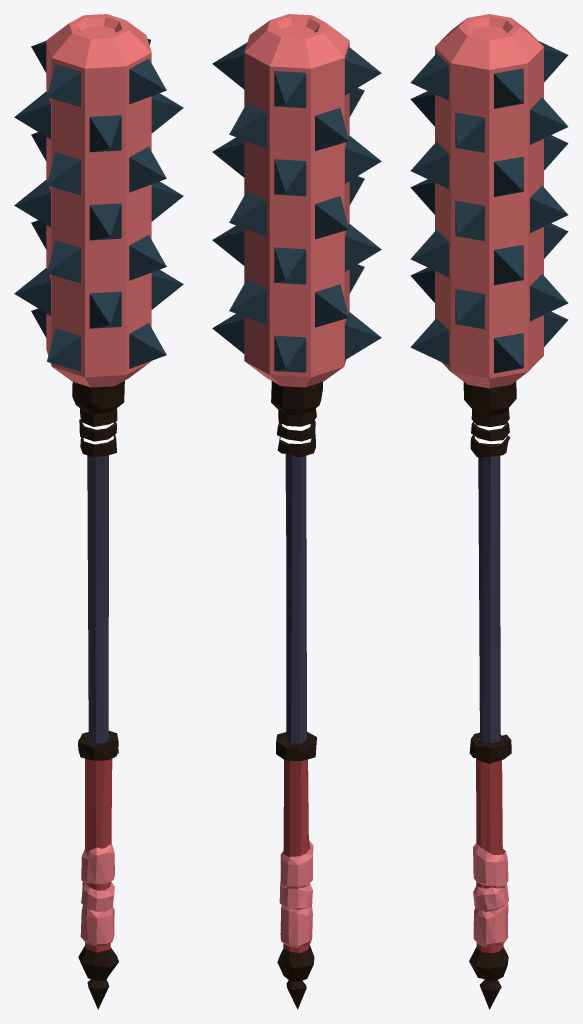
The model's file is SFFA_Weapon_Mace_Gold_007.fbx.
The picture shows the model from 3 angles, left to right: view 1: azimuth 30°, elevation 25°; view 2: azimuth 150°, elevation 25°; view 3: azimuth 270°, elevation 25°; orthographic projection.
Parts seen in each view (by area): view 1: SFFA_Weapon_Mace_Gold_007; view 2: SFFA_Weapon_Mace_Gold_007; view 3: SFFA_Weapon_Mace_Gold_007.
Boxes of the visible parts, box(x1,y1,x2,y2) form: SFFA_Weapon_Mace_Gold_007: box(14, 14, 183, 1009); SFFA_Weapon_Mace_Gold_007: box(212, 14, 381, 1009); SFFA_Weapon_Mace_Gold_007: box(410, 14, 568, 1009).
Size of the model in its own units: 15.67 by 107 by 15.67.
